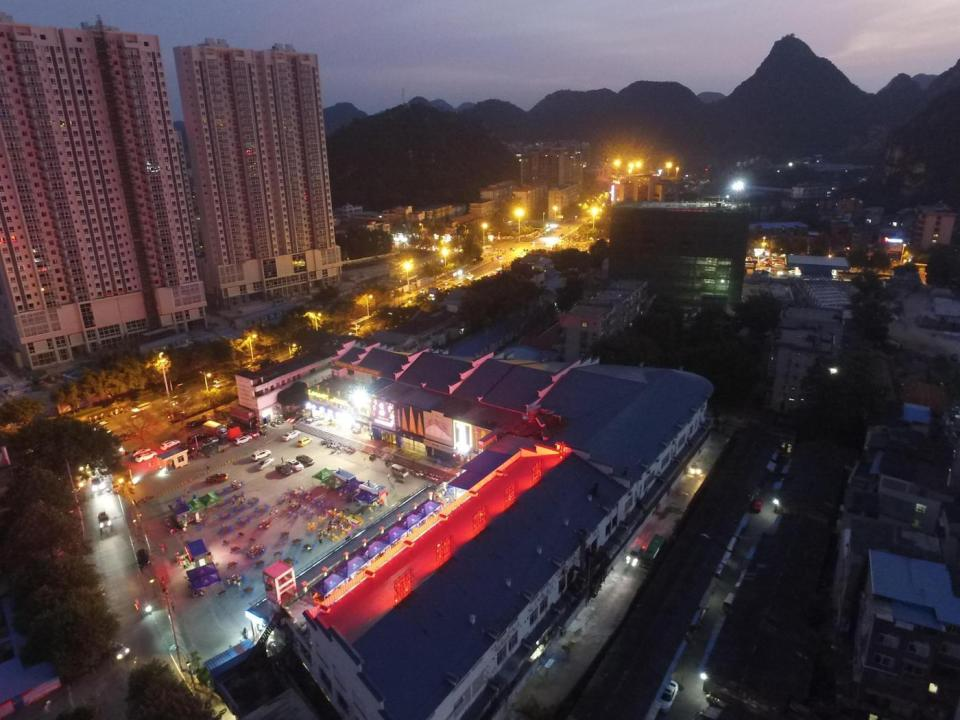car: (658, 680, 679, 712), (102, 640, 131, 661), (625, 543, 644, 566), (136, 548, 152, 568), (98, 512, 114, 528), (134, 451, 157, 462), (286, 458, 304, 472), (281, 429, 300, 442), (255, 457, 274, 470), (91, 477, 106, 493), (204, 473, 228, 483), (251, 449, 271, 461), (160, 439, 181, 450), (232, 435, 253, 446), (187, 434, 205, 446), (296, 454, 314, 466), (129, 447, 150, 457), (276, 463, 292, 476), (296, 436, 314, 447), (688, 462, 701, 475), (202, 436, 218, 446), (186, 420, 206, 428), (287, 414, 303, 424), (752, 498, 761, 513), (465, 274, 474, 279), (419, 288, 427, 292), (509, 247, 515, 251), (497, 255, 503, 259), (484, 245, 492, 248)
van: (639, 534, 668, 569), (200, 440, 230, 456), (202, 420, 228, 438), (391, 463, 409, 478), (134, 401, 152, 412), (110, 481, 122, 493)
